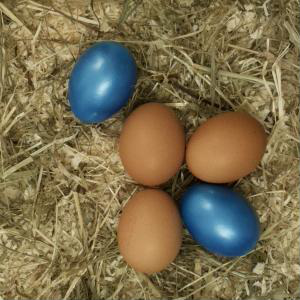egg: (186, 109, 268, 185), (182, 184, 260, 258), (118, 187, 182, 277), (69, 41, 138, 124), (118, 103, 186, 187)
